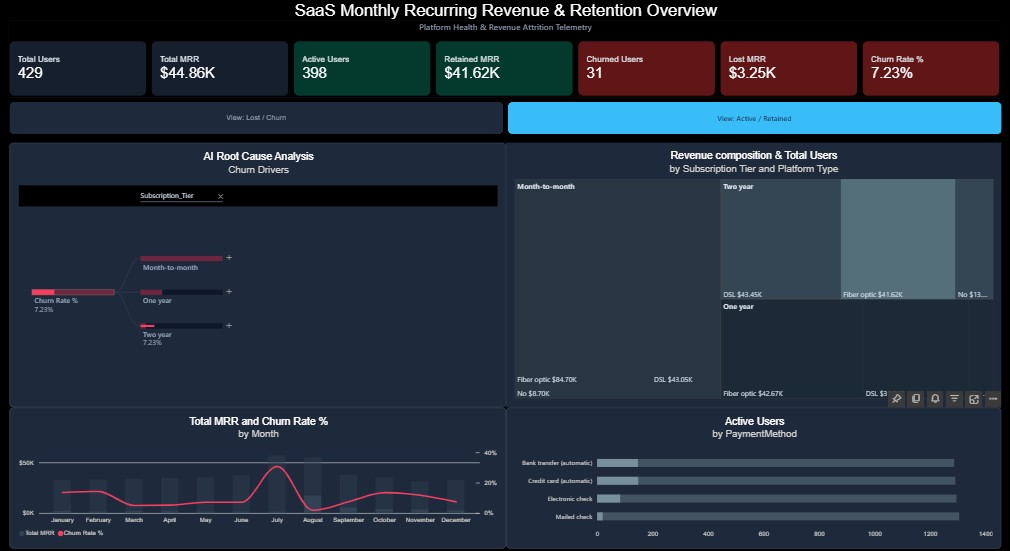

Layout of this report page (visuals, bound fields, positions):
{"tool":"powerbi","page":{"name":"Executive Summary Dashboard","canvas":[1920,1080],"ordinal":0},"visuals":[{"type":"textbox","box":[0,0,1920,40],"z":0},{"type":"decompositionTreeVisual","title":"AI Root Cause Analysis","fields":{"Analyze":["_KeyMeasures.Churn Rate %"],"ExplainBy":["Fact_Churn.PaymentMethod","Dim_Subscription.Platform_Type","Fact_Churn.TechSupport","Dim_Subscription.Subscription_Tier"]},"box":[17.6,271.1,943.3,502.5],"z":1000,"group":"g2"},{"type":"cardVisual","title":"Platform Health & Revenue Attrition Telemetry","fields":{"Data":["_KeyMeasures.Total Users","_KeyMeasures.Total MRR","_KeyMeasures.Active Users","_KeyMeasures.Retained MRR","_KeyMeasures.Churned Users","_KeyMeasures.Lost MRR","_KeyMeasures.Churn Rate %"]},"box":[17.6,39.7,1884.5,143.3],"z":2000},{"type":"bookmarkNavigator","box":[17.6,194,1884.5,61.7],"z":4000},{"type":"treemap","title":"Revenue composition & Total Users","fields":{"Details":["Dim_Subscription.Platform_Type"],"Group":["Dim_Subscription.Subscription_Tier"],"Values":["_KeyMeasures.Lost MRR"]},"box":[960.9,271.1,941.1,502.5],"z":5000,"group":"g2"},{"type":"lineClusteredColumnComboChart","fields":{"Category":["Dim_Date.Date.Variation.Date Hierarchy.Month"],"Y":["_KeyMeasures.Total MRR"],"Y2":["_KeyMeasures.Churn Rate %"]},"box":[17.6,773.6,943.3,268.9],"z":6000,"group":"g1"},{"type":"clusteredBarChart","fields":{"Category":["Fact_Churn.PaymentMethod"],"Y":["_KeyMeasures.Active Users"]},"box":[960.9,773.6,941.1,268.9],"z":7000,"group":"g1"},{"type":"group","id":"g1","title":"Group 1","box":[17.6,773.6,1884.5,268.9],"z":7001},{"type":"group","id":"g2","title":"Group 2","box":[17.6,271.1,1884.5,502.5],"z":7002}]}

Visuals, with their boxes on the page's 1920x1080 design canvas (x1, y1, x2, y2). These are canvas units, not pixel positions in the 1010x551 screenshot, which may show the page scaled, cropped or inside an application window:
textbox: bbox(0, 0, 1920, 40)
"AI Root Cause Analysis" decompositionTreeVisual: bbox(18, 271, 961, 774)
"Platform Health & Revenue Attrition Telemetry" cardVisual: bbox(18, 40, 1902, 183)
bookmarkNavigator: bbox(18, 194, 1902, 256)
"Revenue composition & Total Users" treemap: bbox(961, 271, 1902, 774)
lineClusteredColumnComboChart - Dim_Date.Date.Variation.Date Hierarchy.Month x _KeyMeasures.Total MRR: bbox(18, 774, 961, 1042)
clusteredBarChart - Fact_Churn.PaymentMethod x _KeyMeasures.Active Users: bbox(961, 774, 1902, 1042)
"Group 1" group: bbox(18, 774, 1902, 1042)
"Group 2" group: bbox(18, 271, 1902, 774)
